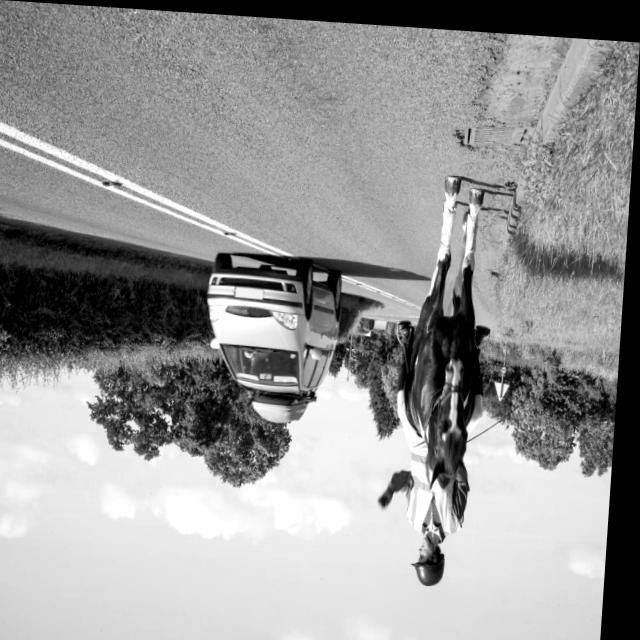cleat: (92, 6, 640, 420)
